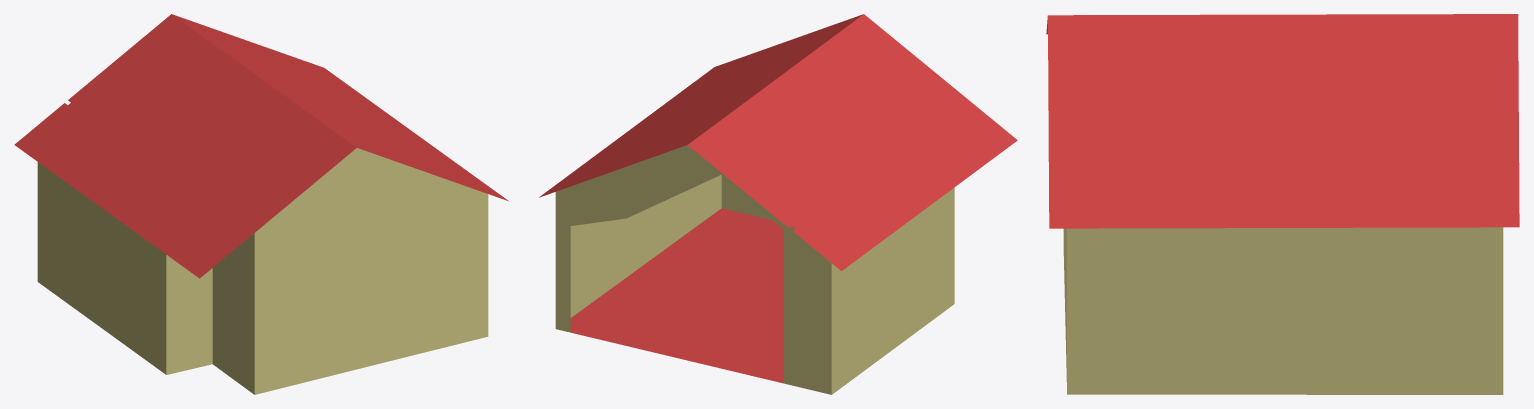
3 views of the same model, side by side, from view 1: azimuth 30°, elevation 25°; view 2: azimuth 150°, elevation 25°; view 3: azimuth 270°, elevation 25° (orthographic). The views are drawn at different scales.
Size of the model in its own units: 19.49 by 19.9 by 13.57.
